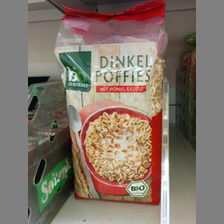cereal: (55, 4, 164, 204)
